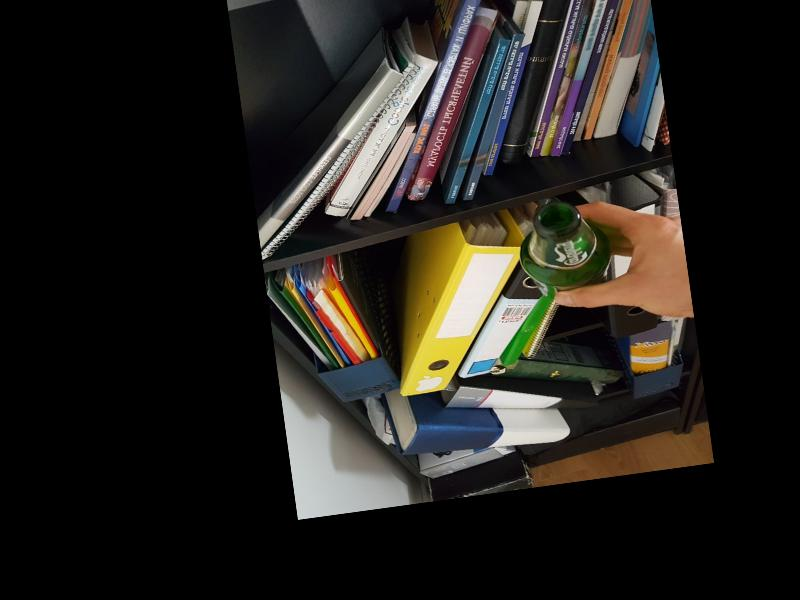Beer: (514, 198, 613, 303)
